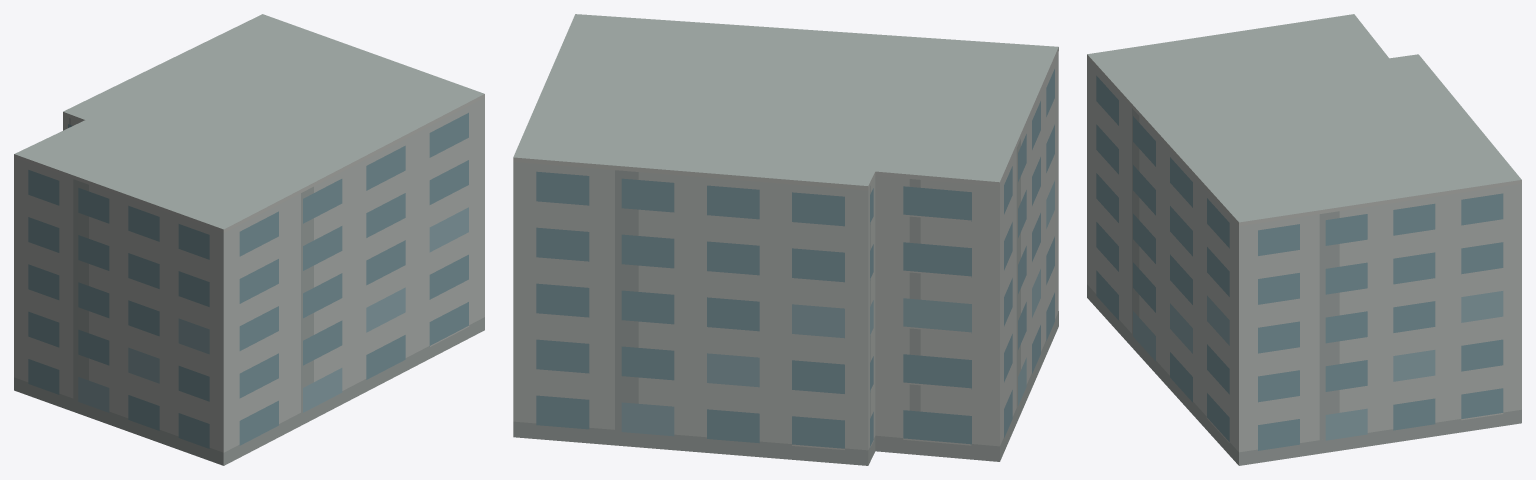
The model's file is survey-upis-32857364.glb.
The picture shows the model from 3 angles, left to right: view 1: azimuth 30°, elevation 25°; view 2: azimuth 150°, elevation 25°; view 3: azimuth 270°, elevation 25°; orthographic projection. The views are drawn at different scales.
Parts seen in each view (by area): view 1: survey-upis-32857364.tmp; view 2: survey-upis-32857364.tmp; view 3: survey-upis-32857364.tmp.
Part boxes in pixels (x1,y1,x2,y2): survey-upis-32857364.tmp: (14,14,484,465); survey-upis-32857364.tmp: (513,14,1058,465); survey-upis-32857364.tmp: (1087,14,1521,465).
Size of the model in its own units: 27.91 by 15.2 by 24.61.
